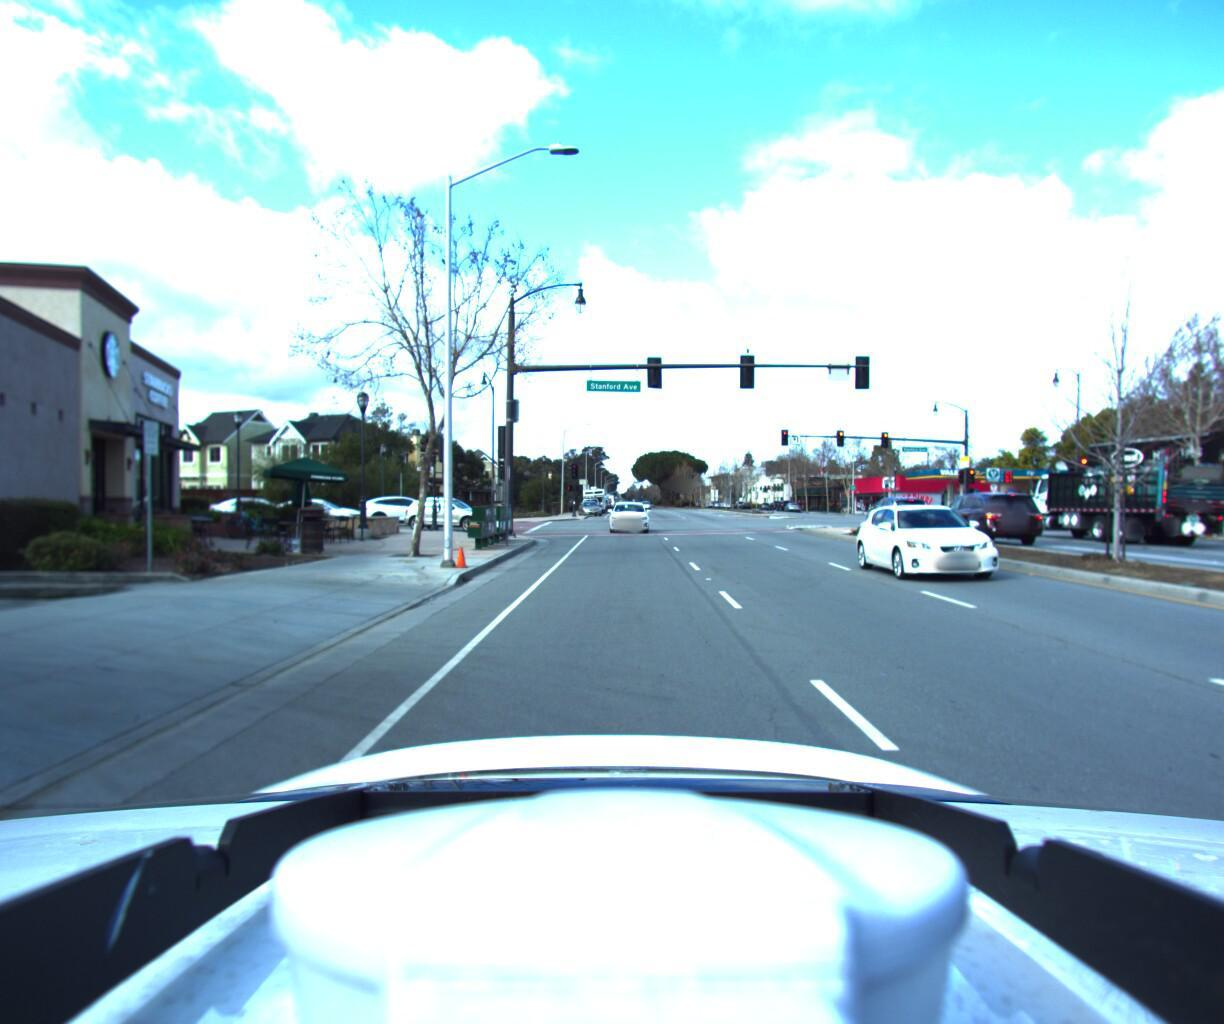car: (869, 500, 1050, 591), (926, 491, 1051, 544), (396, 495, 499, 531), (354, 493, 452, 528), (251, 498, 356, 529), (205, 497, 304, 526), (859, 496, 934, 533), (606, 498, 648, 532), (572, 501, 602, 517)
truck: (1012, 438, 1224, 549)
